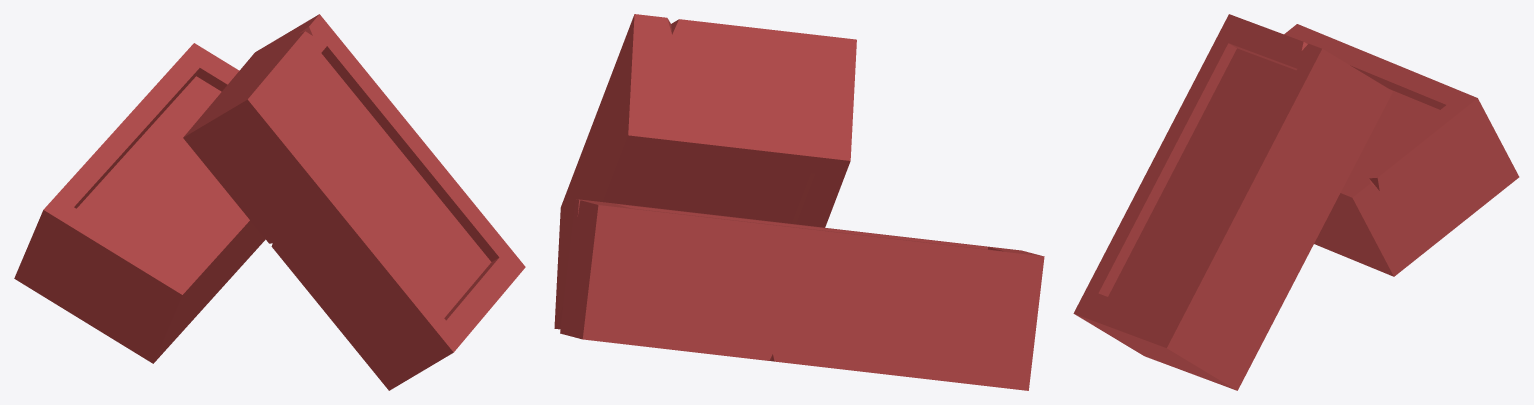
File: brick.gltf
3 renders of one model, left to right at view 1: azimuth 30°, elevation 25°; view 2: azimuth 150°, elevation 25°; view 3: azimuth 270°, elevation 25°, orthographic. The views are drawn at different scales.
Visible parts, largest first — view 1: Cube.472; view 2: Cube.472; view 3: Cube.472.
Part boxes in pixels (x1=…): Cube.472: x1=14, y1=14, x2=525, y2=390; Cube.472: x1=554, y1=14, x2=1044, y2=390; Cube.472: x1=1073, y1=14, x2=1519, y2=390.
Bounding box in the file's own units: 1.92 × 1.33 × 1.7.
Materials: 1 (1 with a texture image).
